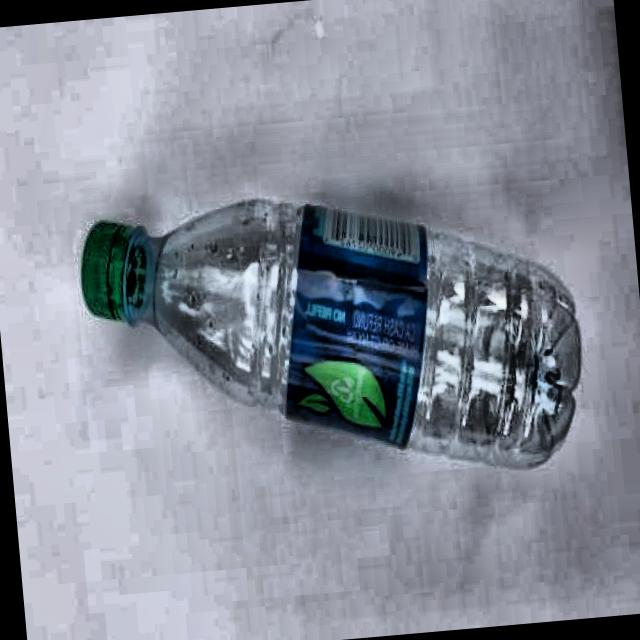plastic bottle: (80, 199, 581, 467)
